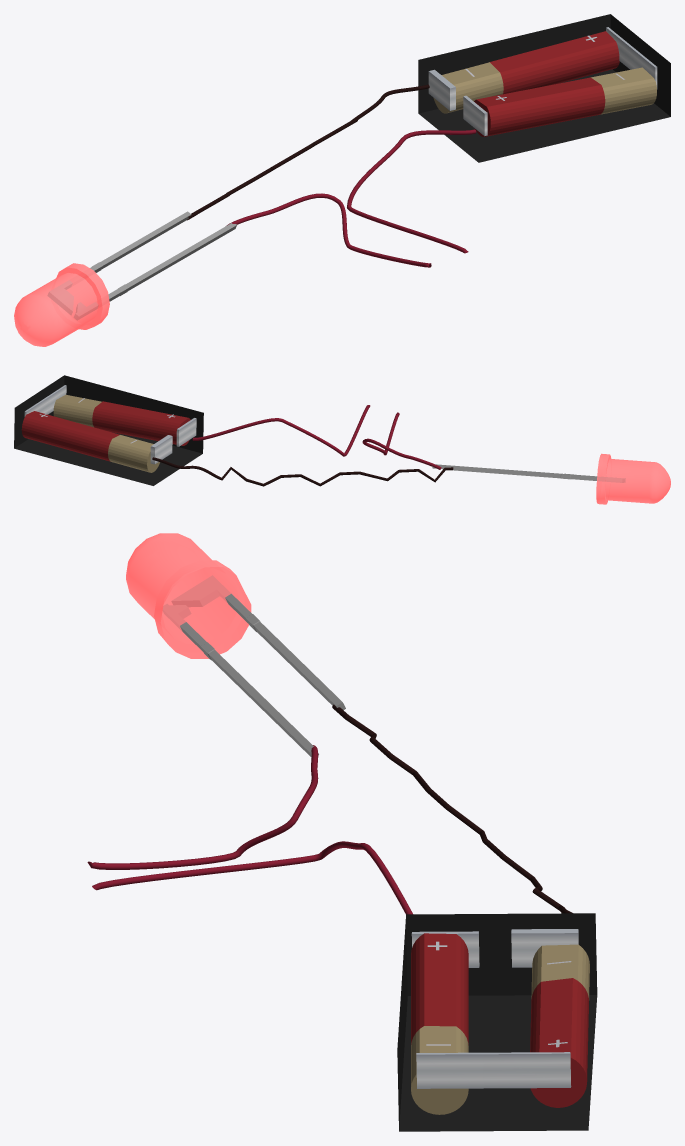
File: circuitWITHOUTSWITCH.glb
3 views of the same model, one above another, from view 1: azimuth 30°, elevation 25°; view 2: azimuth 150°, elevation 25°; view 3: azimuth 270°, elevation 25° (orthographic). The views are drawn at different scales.
Visible parts, largest first — view 1: battery holder, Cylinder_0.001, battery 2, battery 1, BézierCurve.008, BézierCurve; view 2: battery holder, battery 1, Cylinder_0.001, battery 2, BézierCurve.008, BézierCurve; view 3: battery holder, Cylinder_0.001, battery 2, battery 1, BézierCurve.008, BézierCurve.
Boxes of the visible parts, box(x1,y1,x2,y2) form: battery holder: box(418, 14, 670, 162); Cylinder_0.001: box(14, 211, 236, 346); battery 2: box(474, 67, 656, 136); battery 1: box(433, 31, 619, 113); BézierCurve.008: box(226, 129, 476, 267); BézierCurve: box(187, 84, 429, 220); battery holder: box(14, 375, 203, 485); battery 1: box(21, 411, 159, 472); Cylinder_0.001: box(432, 453, 670, 504); battery 2: box(53, 394, 190, 445); BézierCurve.008: box(192, 405, 441, 469); BézierCurve: box(152, 457, 453, 486); battery holder: box(397, 913, 597, 1131); Cylinder_0.001: box(126, 533, 345, 757); battery 2: box(411, 933, 468, 1114); battery 1: box(530, 944, 589, 1107); BézierCurve.008: box(87, 745, 412, 914); BézierCurve: box(332, 704, 581, 946).
Size of the model in its own units: 30.41 by 2.43 by 12.23.
10 materials, 1 textured.
